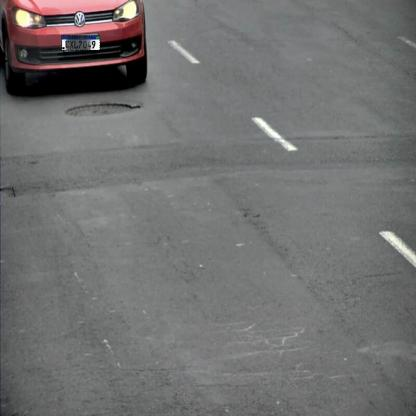PlacaM: (62, 35, 100, 51)
